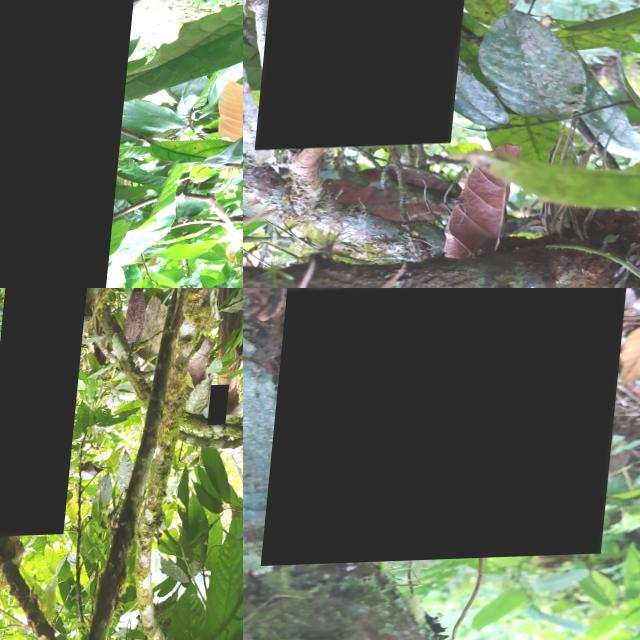Fitoftora: (0, 0, 138, 288), (216, 388, 237, 429)
Monilia: (269, 288, 630, 566), (263, 0, 484, 151)
Sana: (0, 288, 92, 538)
